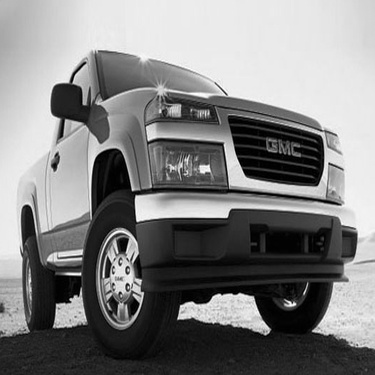car: (1, 42, 350, 337)
